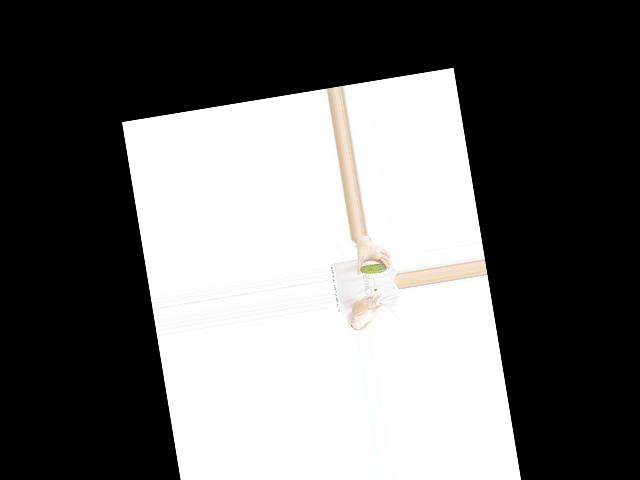cucumber: (358, 261, 386, 275)
